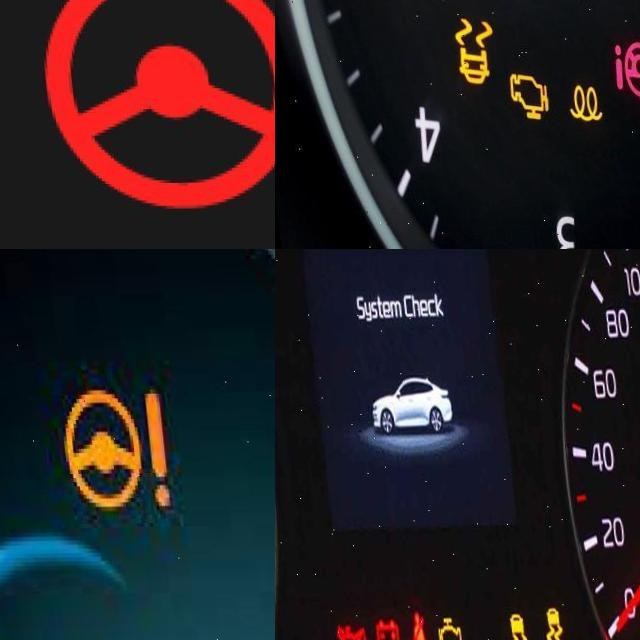Electronic Power Steering: (27, 0, 275, 215)
Electronic Power Steering Warning: (53, 388, 166, 514), (603, 40, 640, 100)
Seat Belt: (395, 613, 419, 640)
